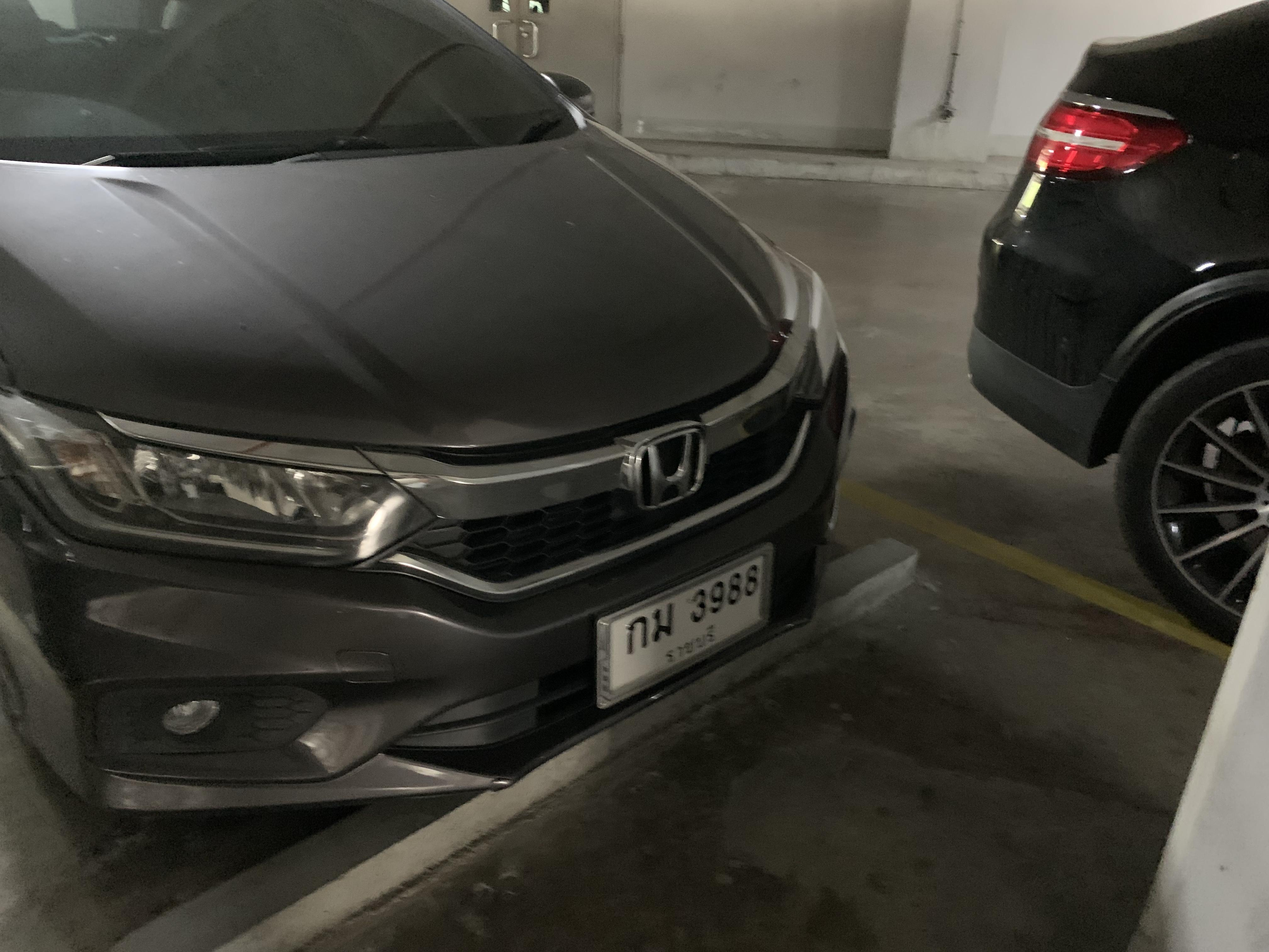license-plate: (590, 538, 784, 714)
